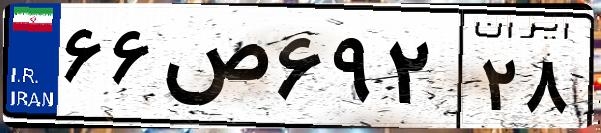2: (385, 28, 445, 110), (475, 38, 525, 113)
6: (270, 28, 330, 110), (57, 26, 110, 100), (110, 28, 158, 98)
8: (525, 38, 570, 115)
9: (330, 28, 385, 110)
ص: (158, 20, 270, 120)
